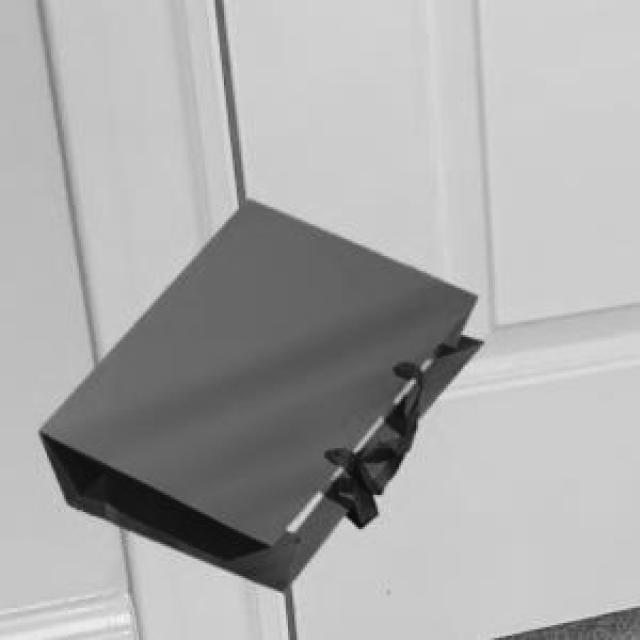paper: (36, 196, 478, 587)
